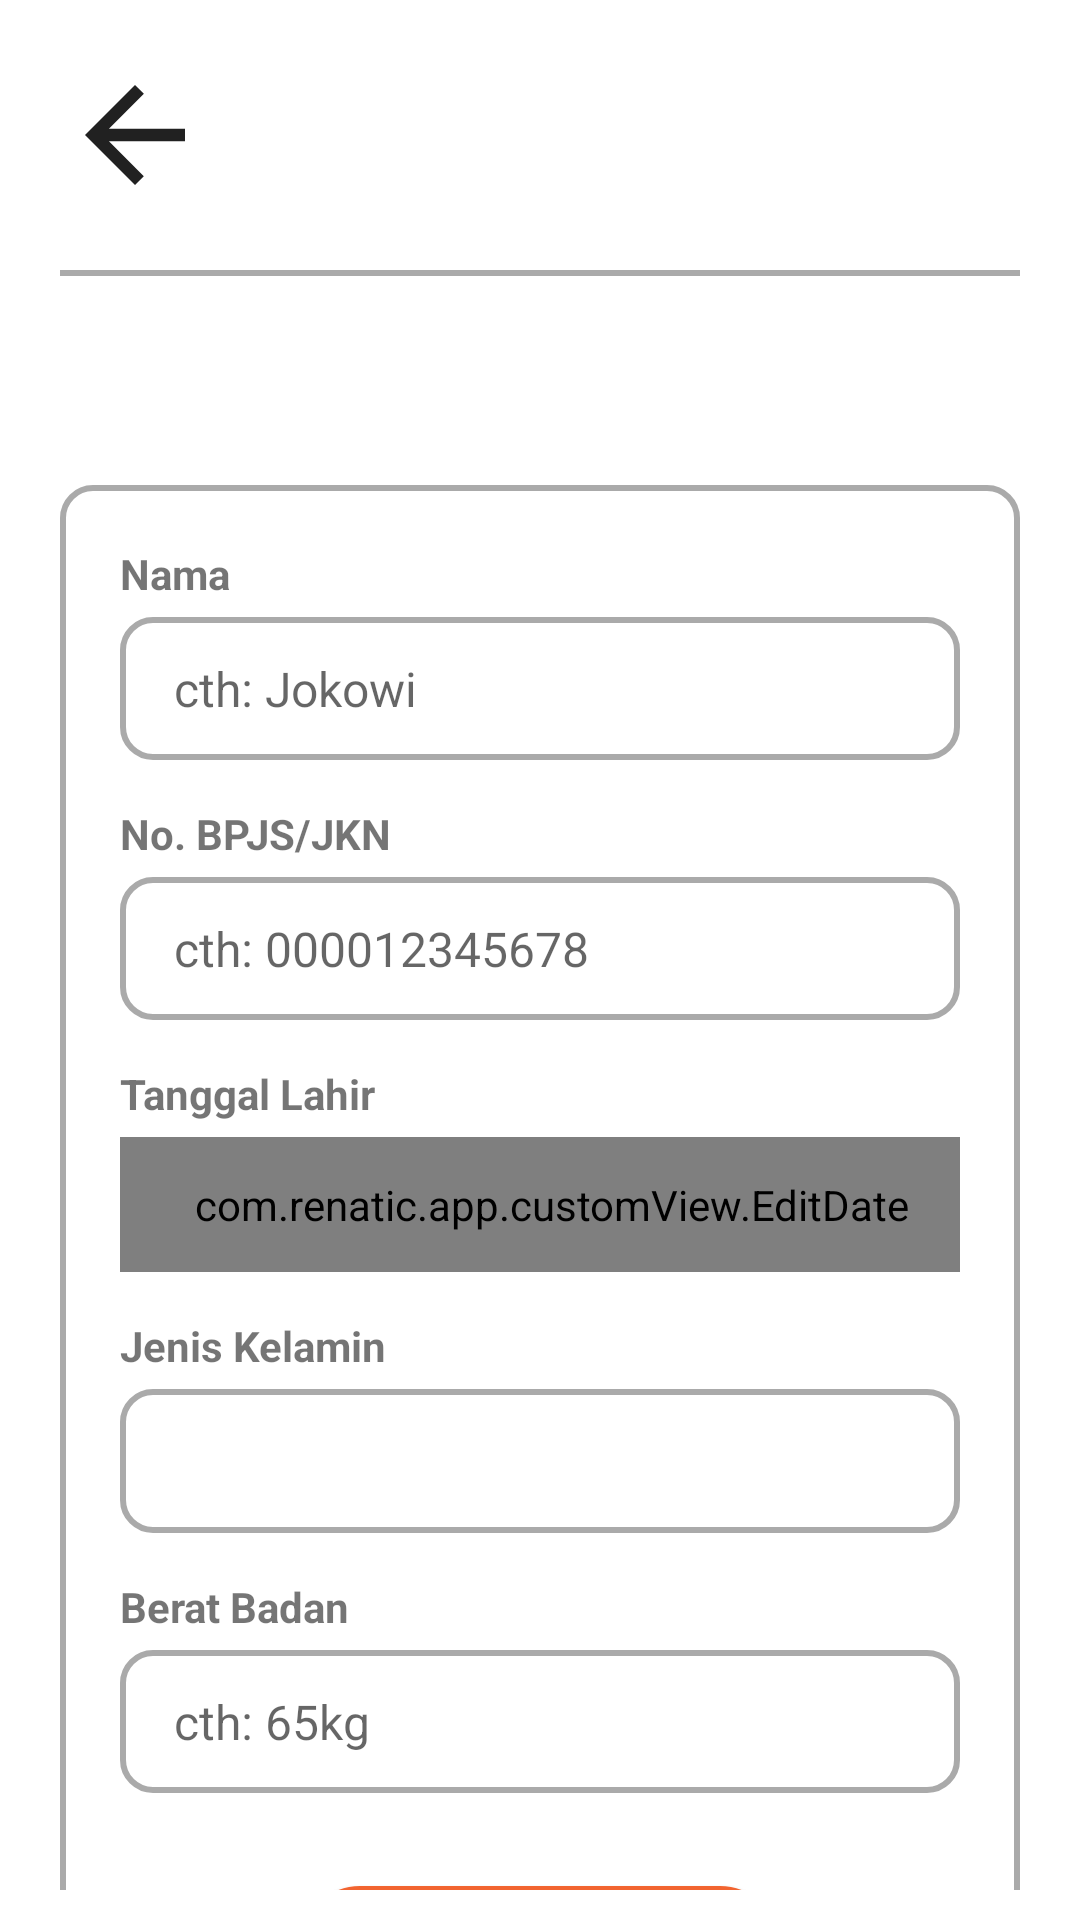

Screen size 1080x1920. Icon name, then its box in pixels as (x1, y1, x2, y2):
back: (85, 85, 185, 185)
